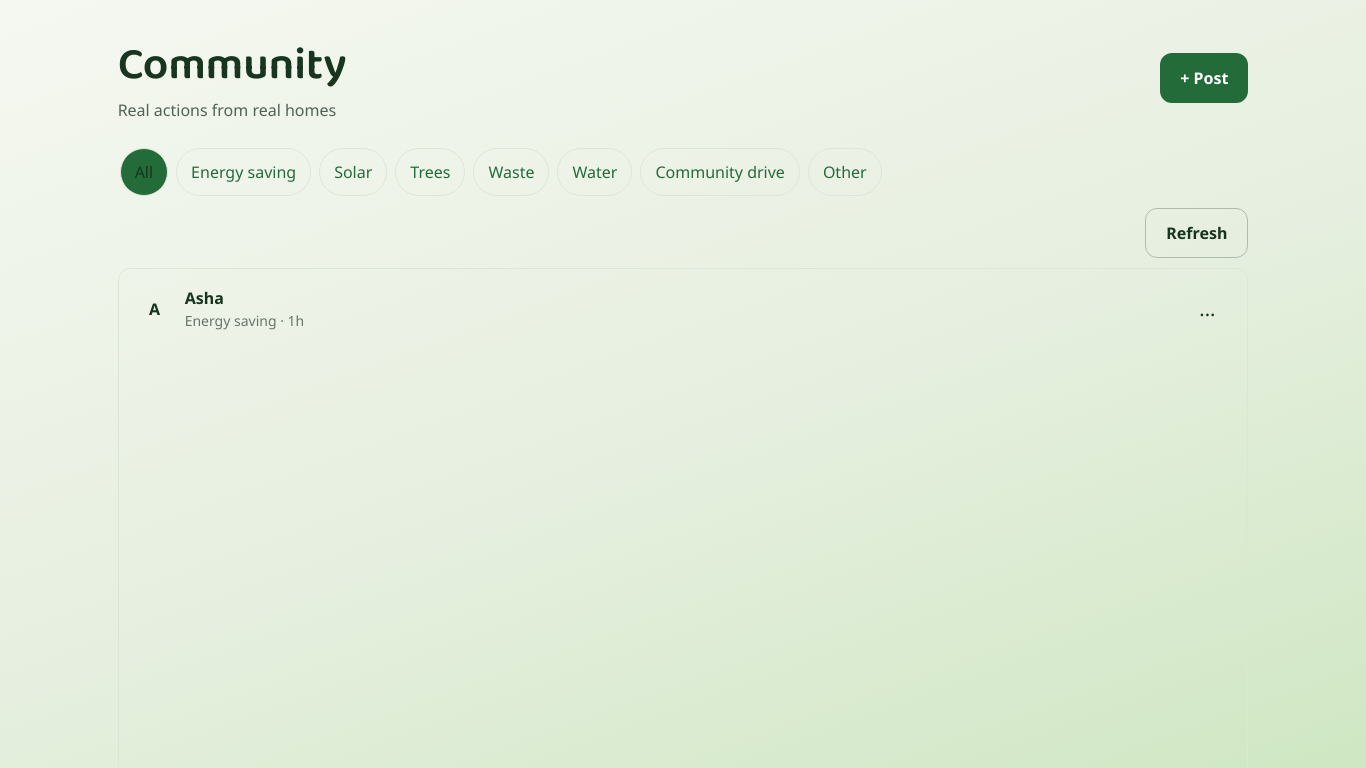
Test: report — all reasons › closes report sheet after submission
The image size is (1366, 768).
Expected: the text "Asha" is shown, [185,287,224,309]
Click the button named "Post menu" at (1207, 309), box [1183,285,1231,333]
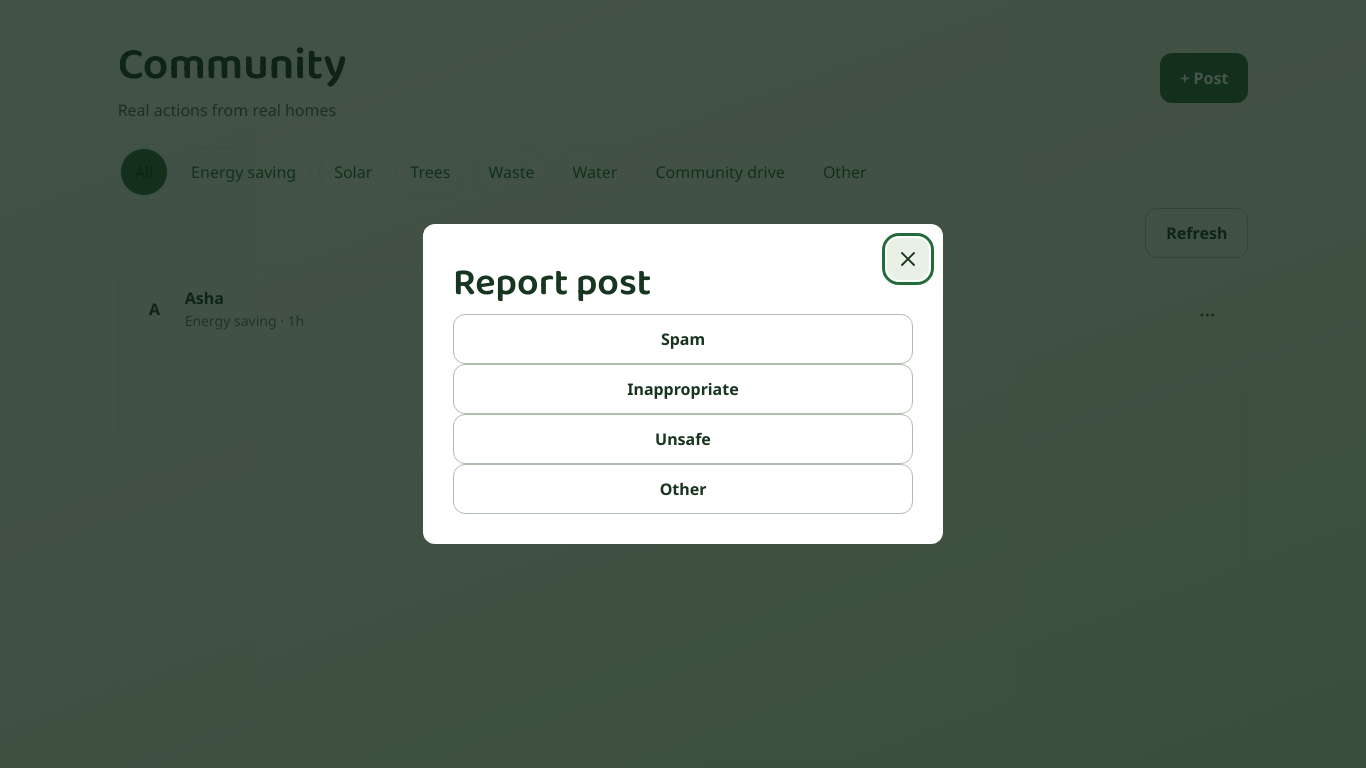
Click the button "Spam" at (683, 339), box [453,314,913,364]
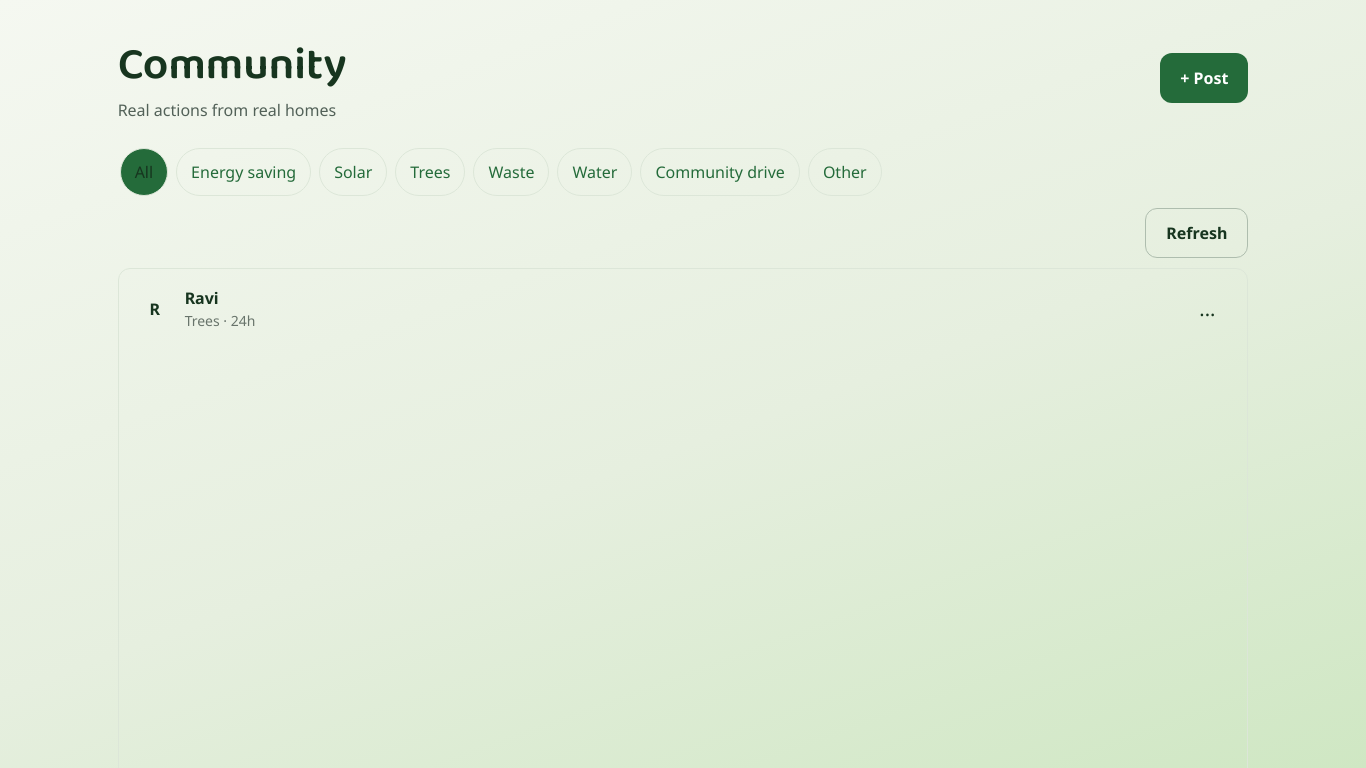
Expected: the heading "Report post" is gone
